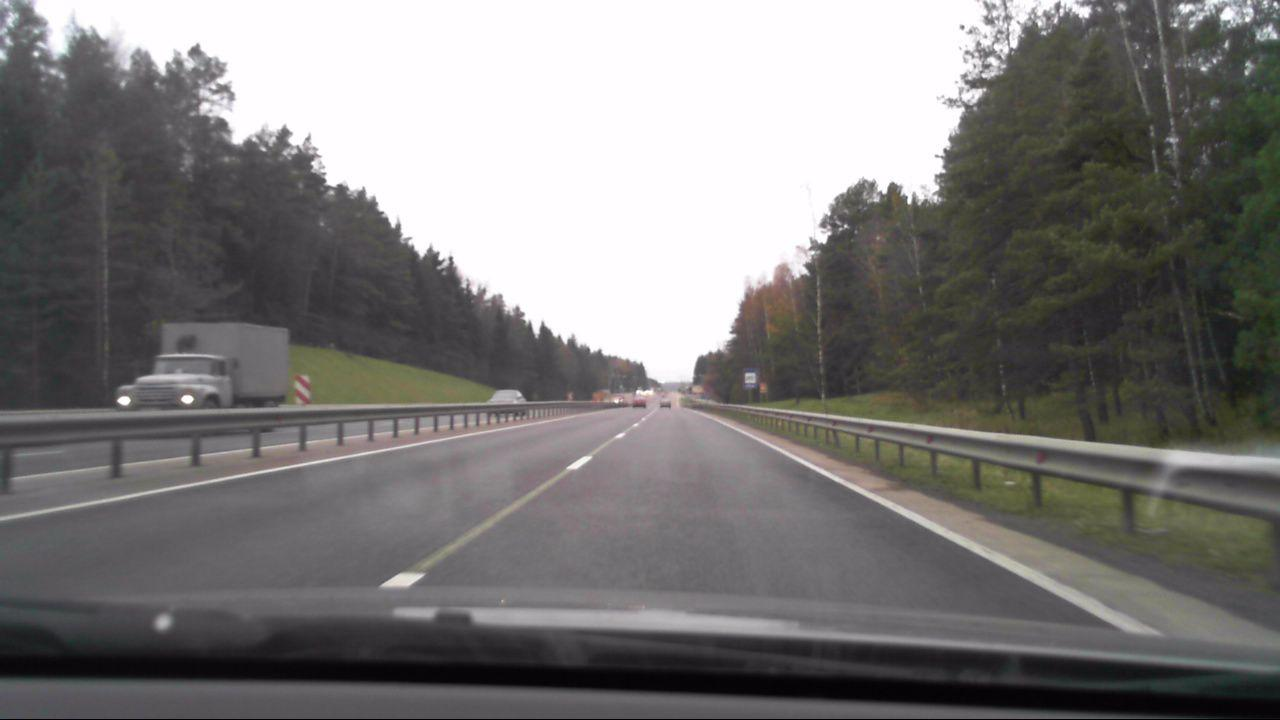7_12: (742, 368, 758, 389)
